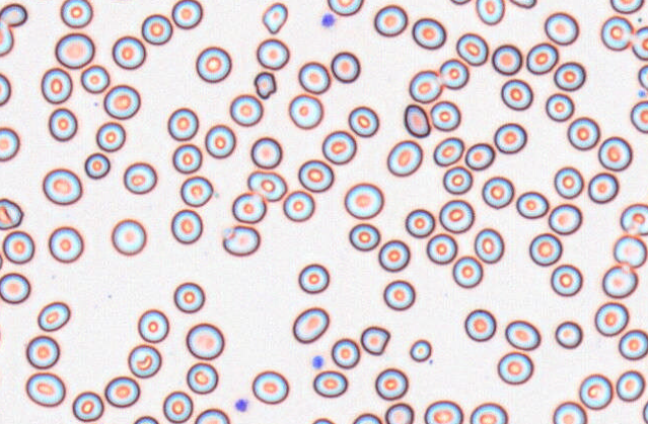PLT: (233, 398, 251, 412), (311, 355, 325, 368), (322, 12, 334, 27)
RBC: (42, 167, 82, 205), (185, 322, 224, 360), (343, 182, 383, 219), (25, 371, 65, 407), (54, 32, 94, 68), (292, 306, 329, 343), (195, 45, 231, 83), (110, 218, 146, 255), (386, 139, 422, 176), (48, 225, 83, 263), (601, 263, 638, 298), (103, 84, 140, 119), (578, 373, 613, 410), (251, 370, 289, 404), (288, 93, 323, 129), (597, 136, 632, 171), (497, 351, 533, 385), (438, 199, 474, 233), (297, 159, 334, 192), (247, 170, 286, 201), (25, 334, 59, 369), (594, 301, 628, 336), (544, 11, 579, 45), (321, 130, 356, 164), (170, 208, 203, 244), (612, 234, 646, 268), (528, 232, 562, 266), (408, 69, 442, 103), (127, 344, 161, 378), (111, 35, 145, 69), (566, 116, 600, 150), (600, 15, 633, 50), (104, 375, 140, 407), (40, 67, 72, 103), (374, 367, 408, 400), (297, 60, 330, 94), (229, 93, 263, 126), (123, 161, 157, 194), (373, 4, 407, 37), (455, 32, 488, 66), (137, 308, 169, 343), (231, 191, 266, 223), (411, 17, 446, 49), (504, 319, 540, 350), (473, 227, 504, 263), (481, 175, 514, 208), (256, 37, 289, 70), (548, 203, 582, 235), (2, 230, 34, 264), (204, 124, 236, 158), (179, 175, 213, 207), (71, 390, 104, 422), (282, 189, 315, 221), (250, 136, 282, 169), (550, 263, 582, 296), (464, 308, 496, 341), (378, 239, 410, 272), (500, 78, 533, 110), (525, 42, 558, 74), (167, 107, 198, 141), (347, 105, 379, 137), (186, 362, 218, 394), (162, 390, 193, 423), (452, 255, 483, 288), (382, 279, 415, 310), (493, 122, 526, 153), (47, 107, 77, 141), (312, 369, 347, 398), (426, 232, 457, 264), (141, 13, 172, 45), (173, 281, 204, 313), (491, 43, 522, 75), (37, 301, 70, 331), (553, 166, 583, 199), (330, 50, 360, 83), (587, 172, 618, 203), (429, 100, 460, 131), (0, 272, 30, 304), (423, 399, 463, 423), (615, 369, 645, 401), (553, 61, 585, 91), (297, 263, 329, 293), (515, 190, 548, 219), (438, 58, 468, 89), (433, 136, 464, 166), (404, 208, 435, 238), (95, 121, 125, 152), (330, 337, 360, 368), (618, 329, 648, 360), (348, 222, 380, 251), (171, 0, 203, 29), (620, 202, 648, 235), (60, 0, 93, 28), (172, 143, 202, 173), (442, 165, 472, 194), (464, 142, 495, 170), (80, 64, 109, 93), (545, 92, 574, 121), (469, 402, 508, 423), (554, 320, 582, 349), (552, 401, 587, 424), (0, 197, 23, 229), (475, 0, 504, 25), (84, 152, 110, 179), (0, 126, 20, 161), (0, 2, 27, 27), (384, 402, 414, 423), (193, 407, 230, 423), (408, 338, 432, 362), (327, 0, 363, 16), (630, 100, 647, 133), (631, 25, 647, 60), (609, 0, 644, 14), (0, 19, 13, 56), (0, 72, 11, 106), (351, 412, 382, 423), (638, 64, 648, 91), (132, 415, 159, 424), (509, 0, 537, 8), (309, 417, 336, 424), (642, 400, 648, 423), (448, 0, 471, 5), (0, 321, 3, 351), (107, 0, 136, 3), (0, 249, 3, 270)
Schistocyte: (224, 225, 263, 257), (361, 325, 392, 355), (404, 104, 432, 137), (262, 2, 289, 35), (255, 71, 276, 100)
